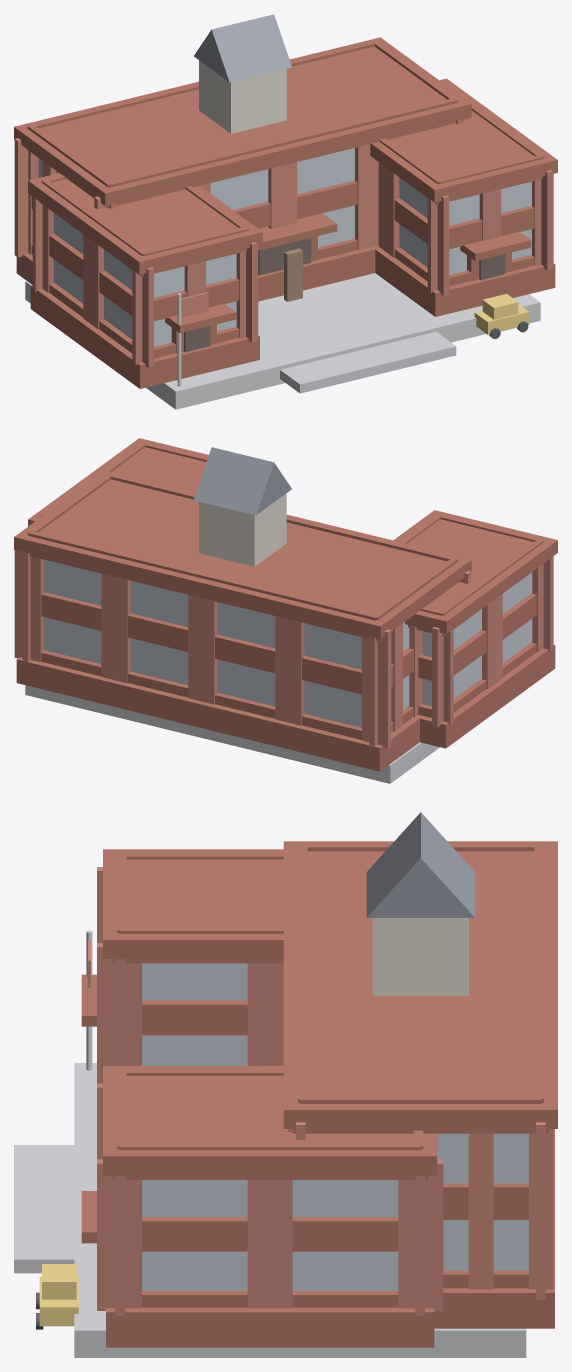
The model's file is num-3-built.glb.
3 views of the same model, one above another, from view 1: azimuth 30°, elevation 25°; view 2: azimuth 150°, elevation 25°; view 3: azimuth 270°, elevation 25° (orthographic). The views are drawn at different scales.
Bounding box in the file's own units: 24.1 × 14.25 × 18.05.
